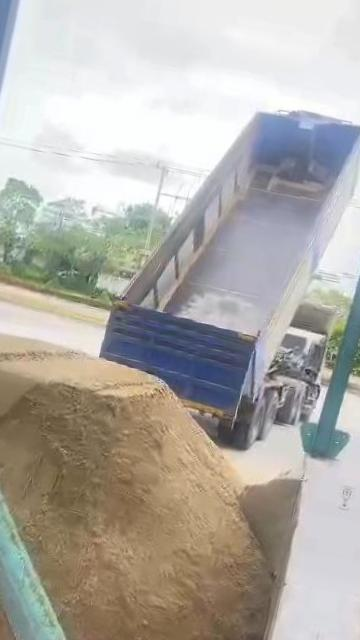sand: (0, 333, 270, 640), (240, 471, 301, 576), (0, 434, 28, 640)
